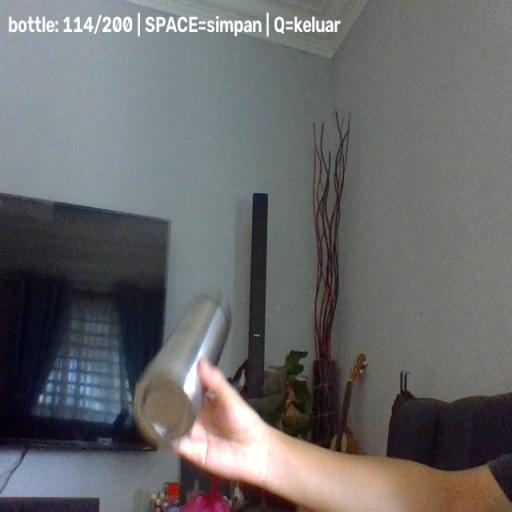Bottle: (132, 294, 231, 445)
